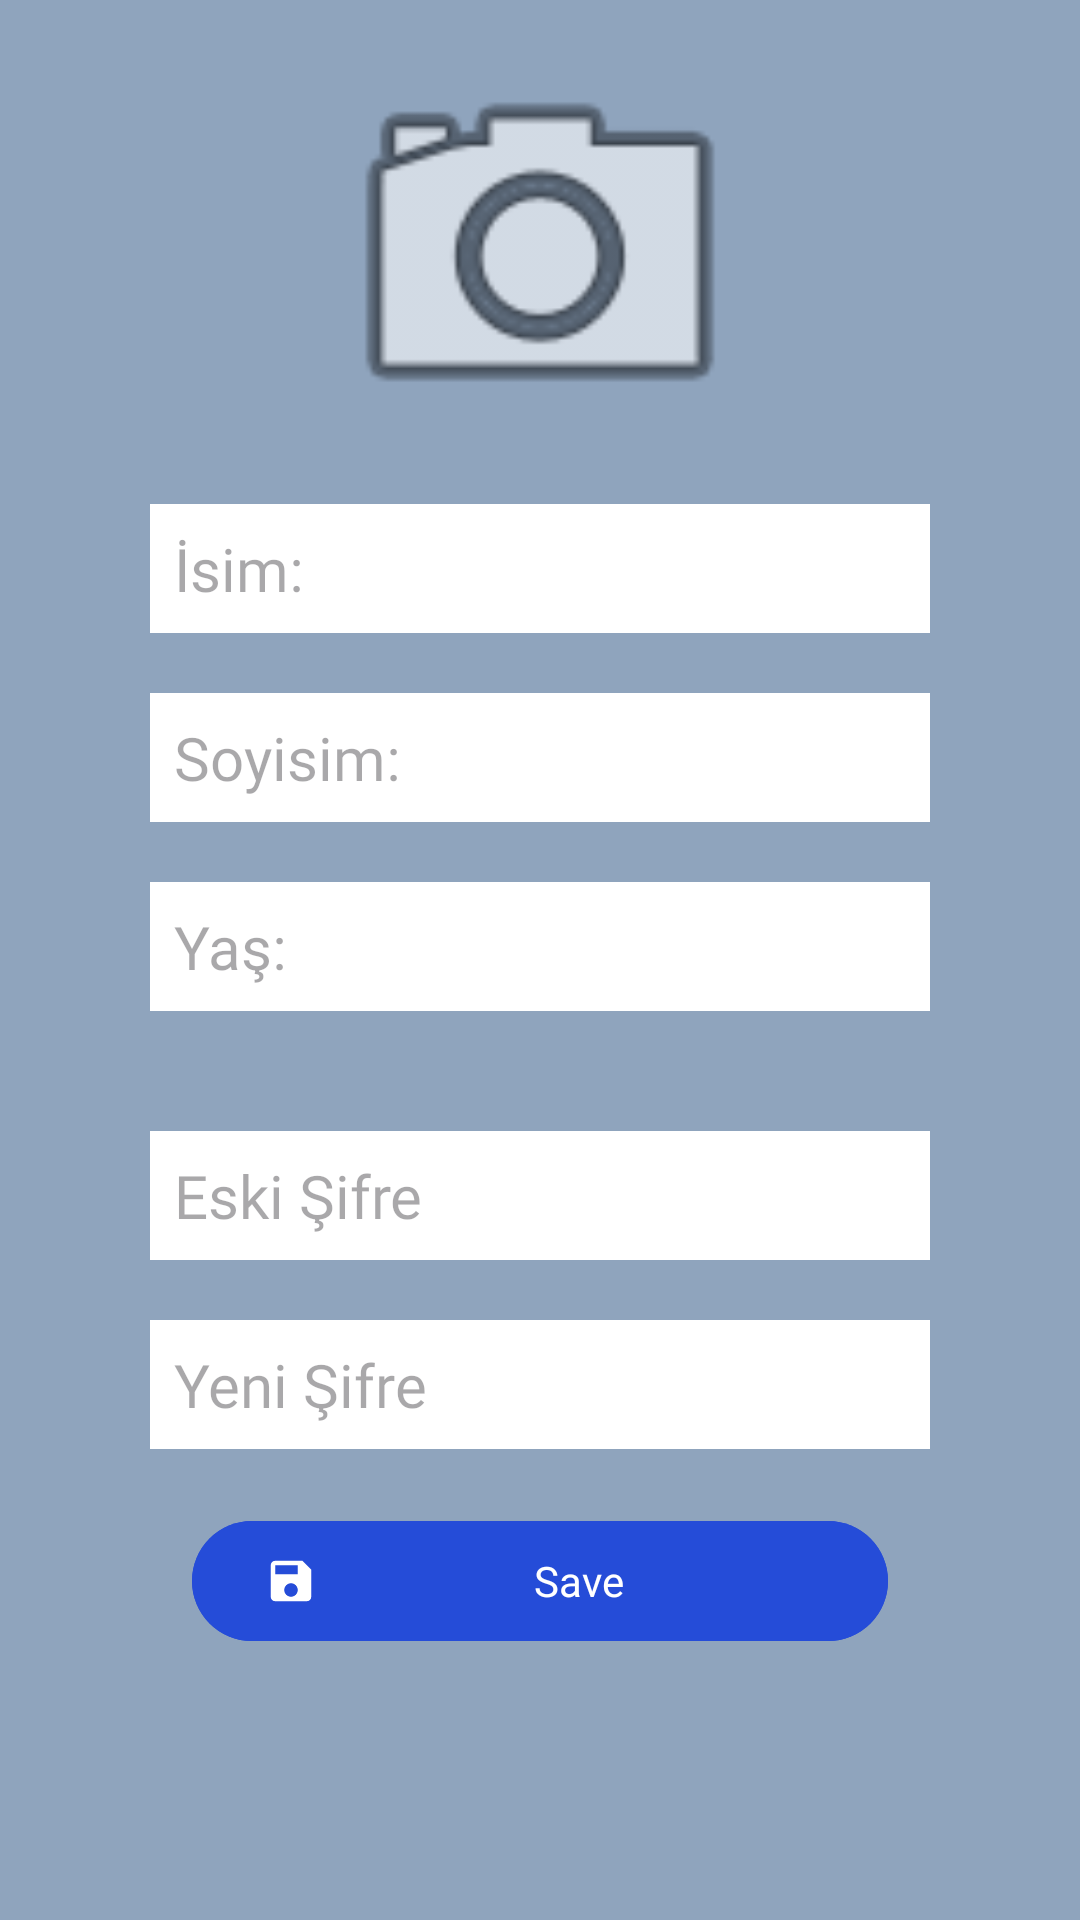

Screen size 1080 × 1920. Icon name, then its center in pixels as (x=x, y=y):
camera: (x=540, y=242)
